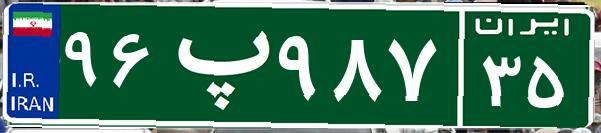3: (475, 38, 525, 113)
5: (525, 38, 570, 115)
6: (110, 28, 158, 105)
7: (385, 28, 445, 110)
8: (330, 28, 385, 110)
9: (273, 28, 330, 110), (57, 26, 110, 107)
پ: (158, 15, 273, 115)
